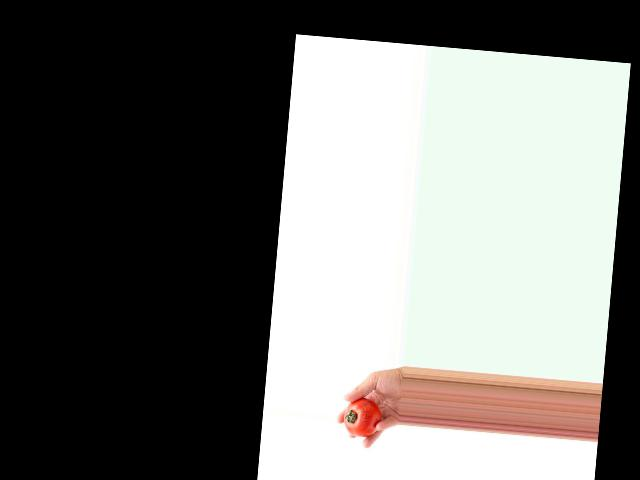tomato: (342, 396, 382, 439)
